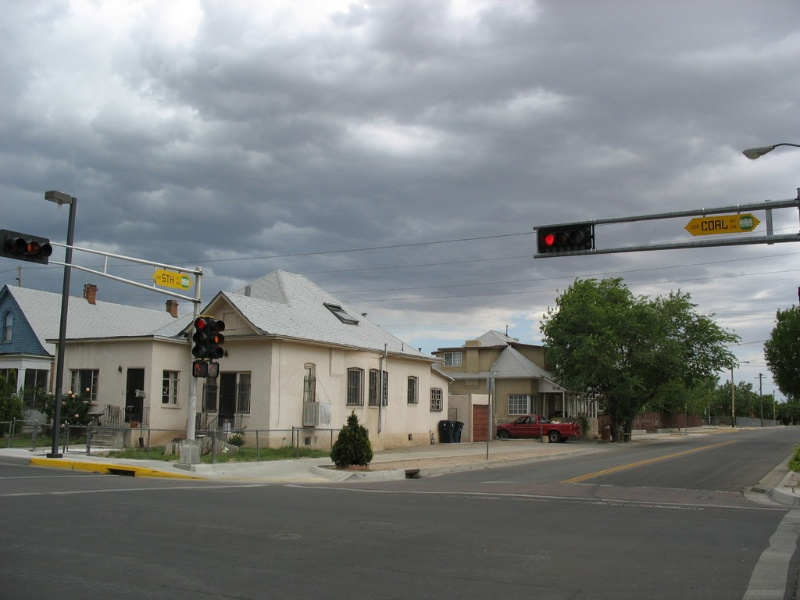red_light: (530, 223, 592, 254)
